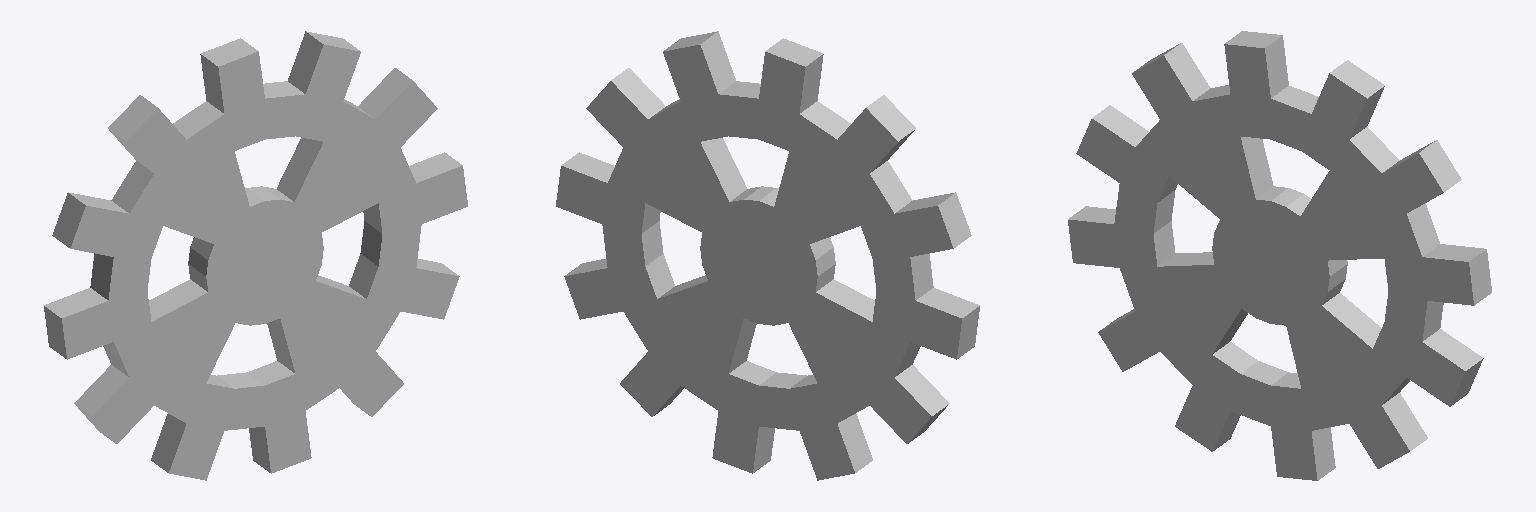
File: machine_assembler_cog.obj
3 renders of one model, left to right at view 1: azimuth 30°, elevation 25°; view 2: azimuth 150°, elevation 25°; view 3: azimuth 330°, elevation 25°, orthographic.
Parts seen in each view (by area): view 1: Cylinder_Cylinder.001; view 2: Cylinder_Cylinder.001; view 3: Cylinder_Cylinder.001.
Part boxes in pixels (x1,y1,x2,y2): Cylinder_Cylinder.001: (44,31,467,480); Cylinder_Cylinder.001: (556,31,979,480); Cylinder_Cylinder.001: (1068,31,1491,480).
Bounding box in the file's own units: 1.3 × 1.3 × 0.1.